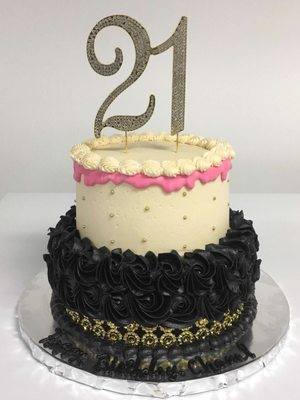sushi: (42, 130, 263, 389), (66, 13, 246, 328)
